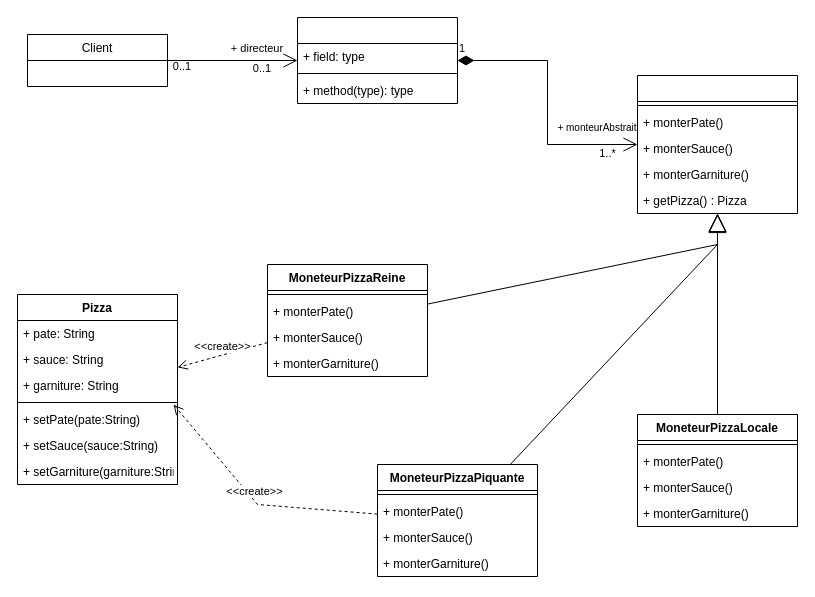
Some shapes in this 815 by 597 pixel diagram are drawn without their labels. Here are the shapes that lost their labels. From the top down, the box of each, then its label:
(296, 16, 458, 104): Directeur
(636, 74, 798, 214): MoneteurPizza
